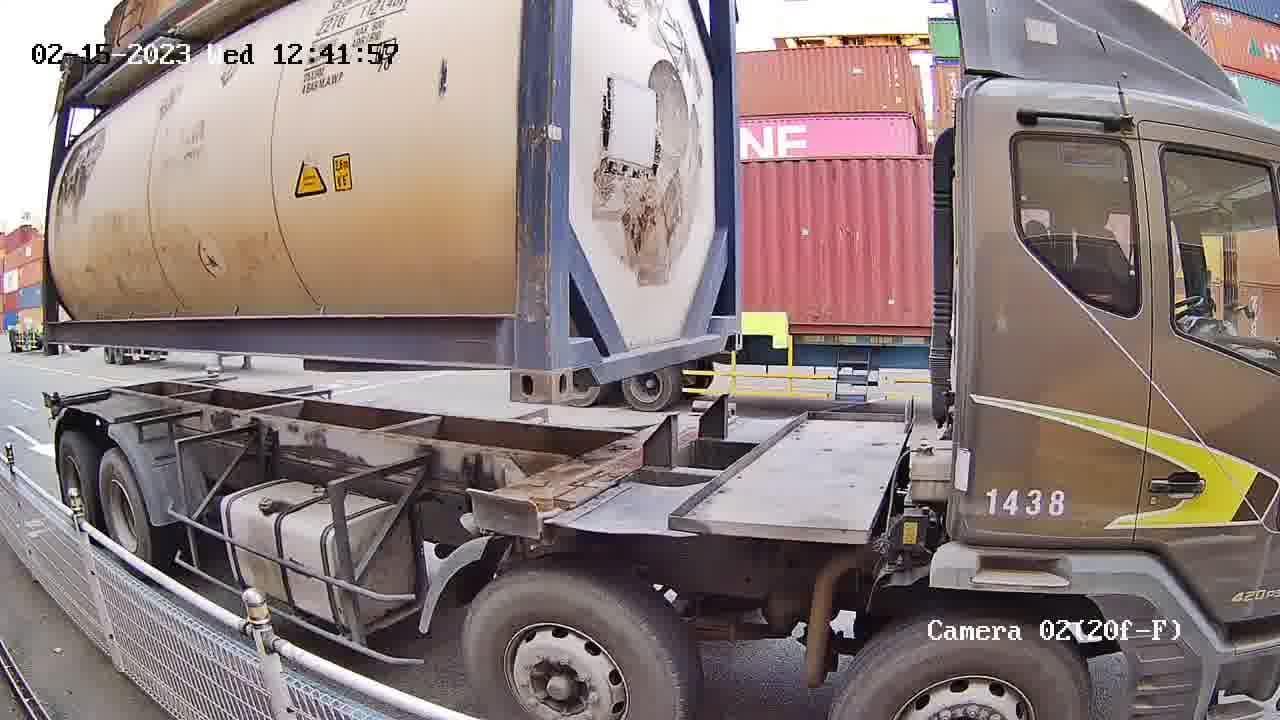Cone: (474, 492, 545, 536), (43, 392, 62, 419)
Hole_L: (549, 323, 603, 406), (41, 308, 82, 357)
Hole_R: (471, 327, 549, 405), (705, 301, 744, 355)
Tire: (459, 575, 679, 714), (831, 623, 1083, 714), (96, 457, 150, 555), (57, 436, 94, 516)
